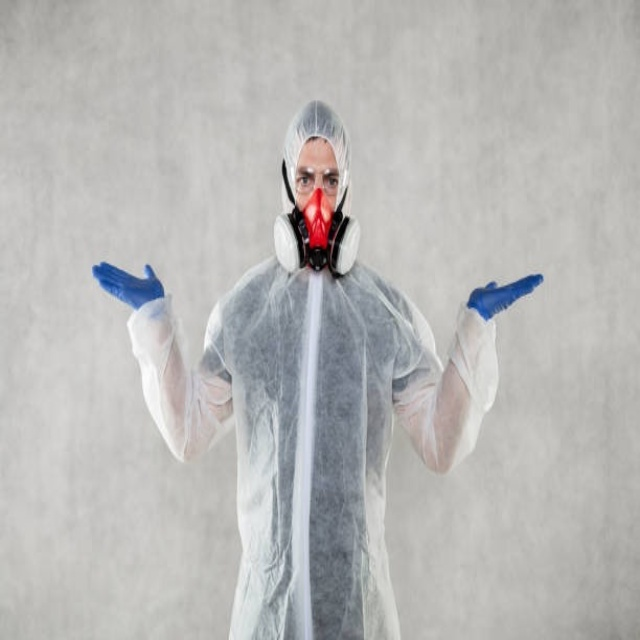Gafas: (294, 168, 342, 196)
Guantes: (92, 261, 166, 315), (466, 274, 544, 322)
Mascara: (271, 187, 363, 279)
